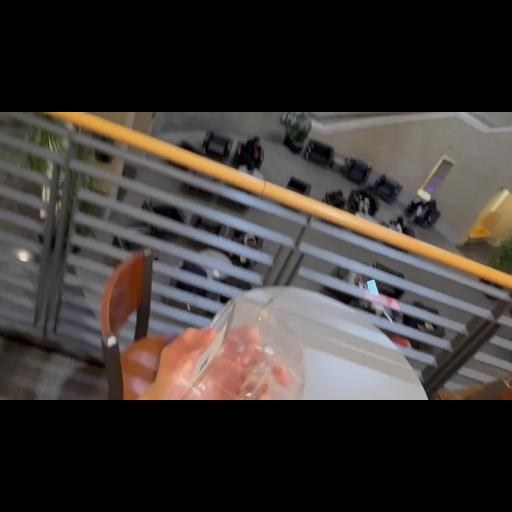small_plastic_container: (156, 294, 306, 400)
